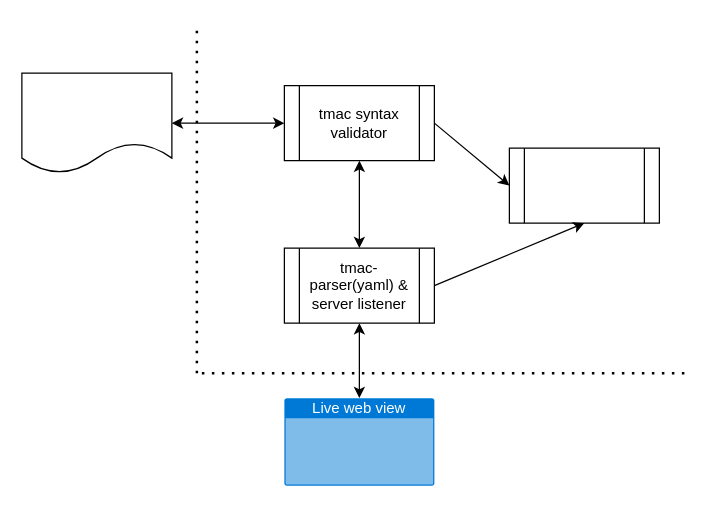
Image size: 709x506. Some labels were removed from this diagram. Here are the shapes that lost their labels. From the top down, the centre of each, then its label:
point (96, 122): *-tmac.yaml
point (583, 185): report generator (pdf)
